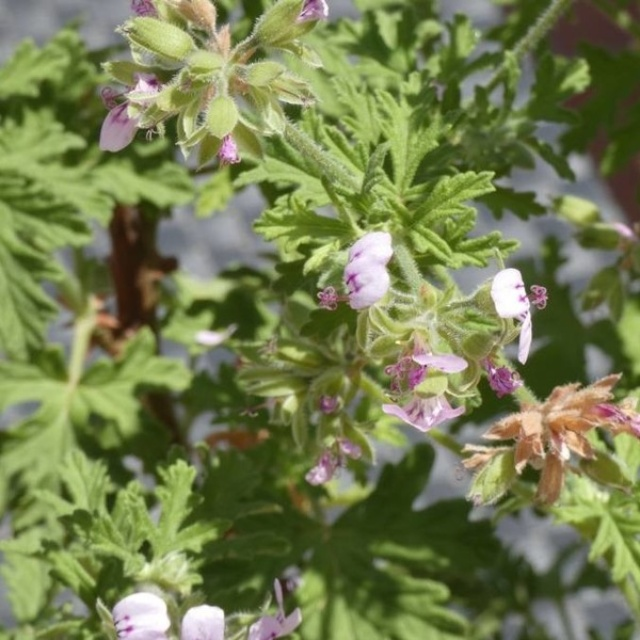obstacle: (113, 30, 614, 539)
